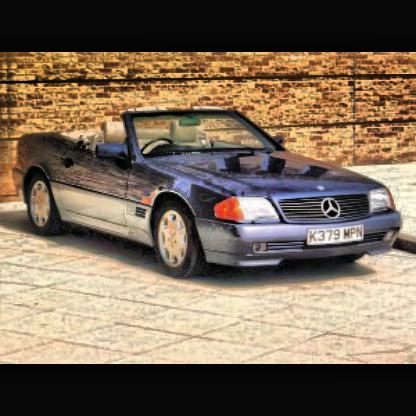Mercedes-Benz 300-Class Convertible 1993: (20, 110, 404, 281)
